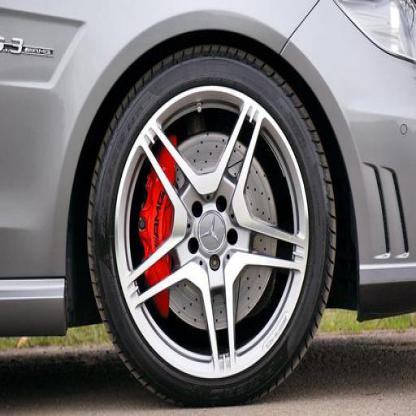Tire: (84, 42, 338, 408)
